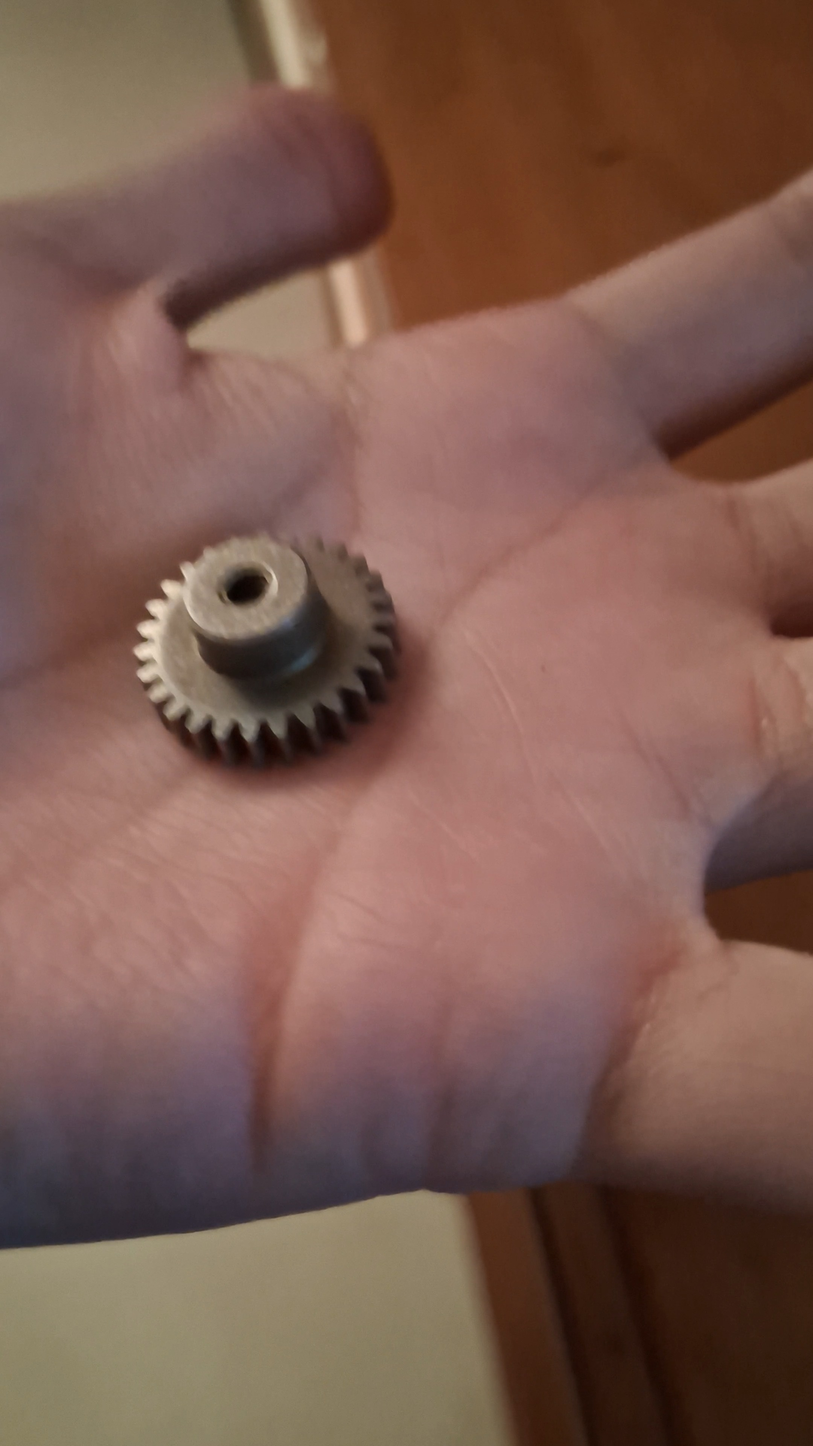spur gear: (136, 534, 397, 764)
